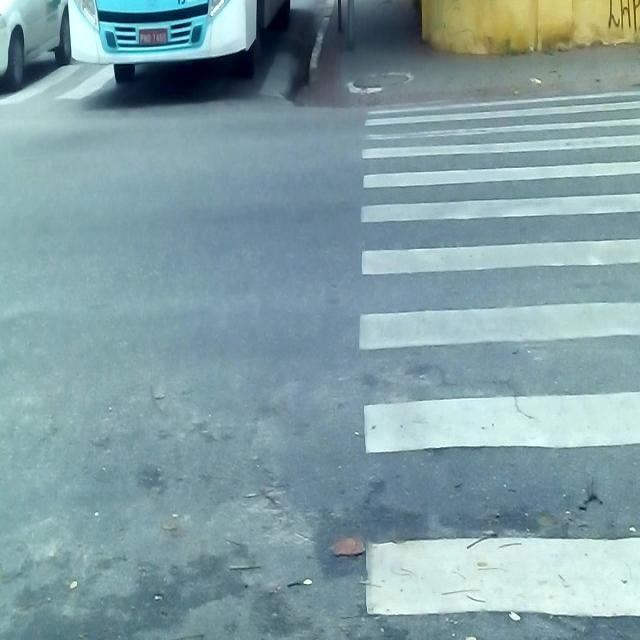crosswalk: (359, 88, 640, 640)
